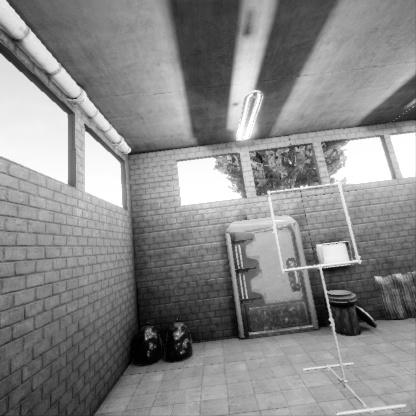gate: (267, 146, 365, 237)
